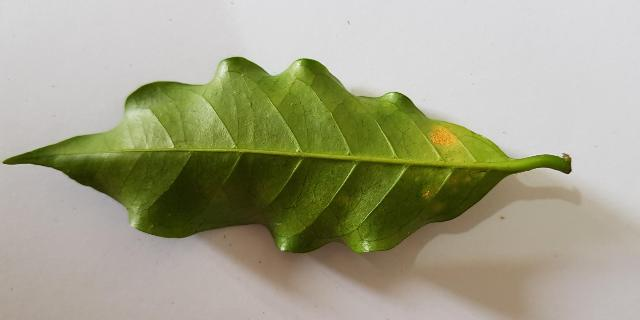miner: (430, 127, 457, 146), (422, 189, 435, 200), (432, 202, 444, 211)
